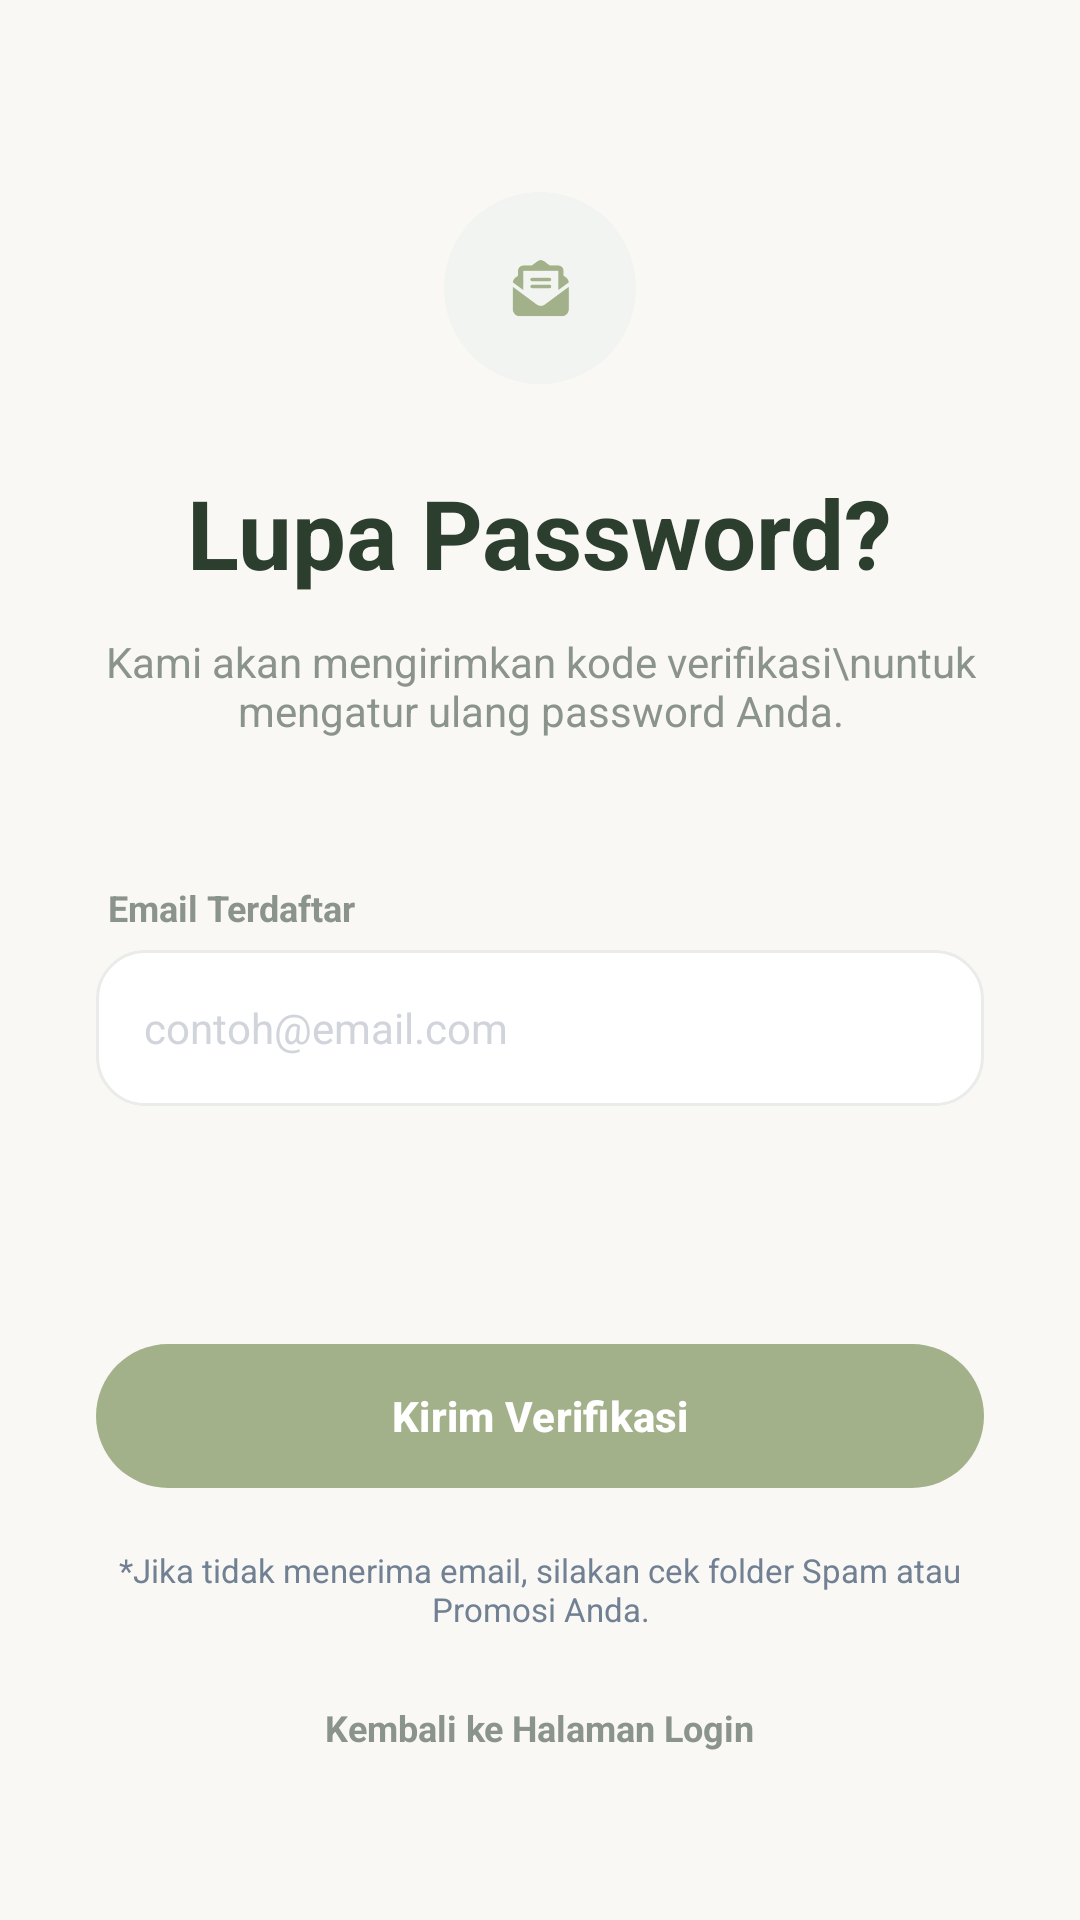

Point at icon controls on the screen. Image size 1080*1920, points as (x,y).
mail: (541,288)
